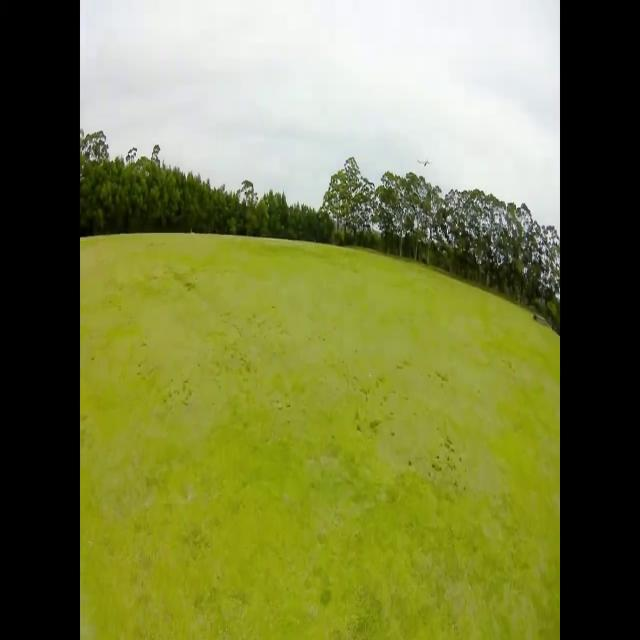iha: (419, 161, 431, 165)
